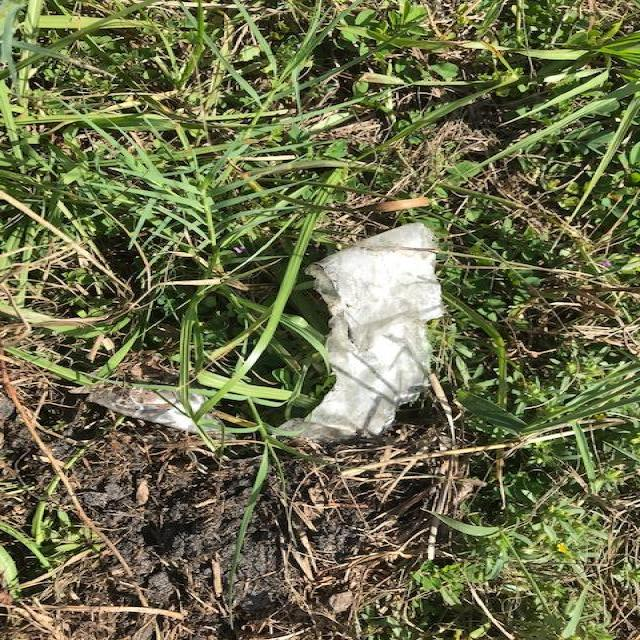litter: (280, 146, 605, 420)
